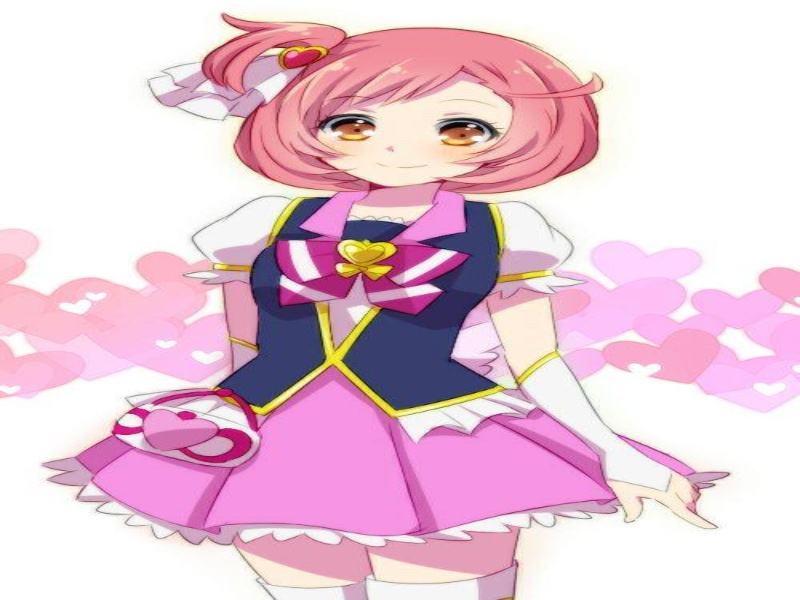dress: (80, 193, 720, 553)
person: (223, 24, 625, 221)
